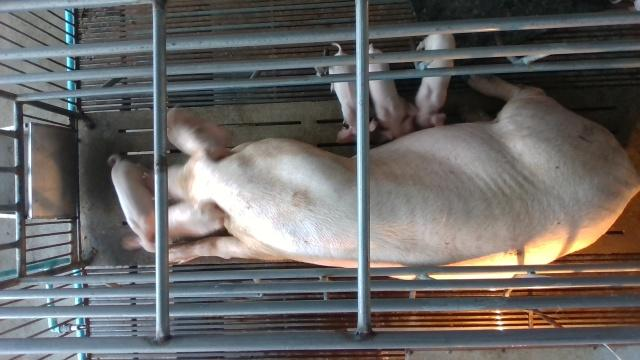piglet: (328, 42, 377, 143), (108, 153, 155, 254), (369, 42, 415, 143), (407, 32, 447, 127)
sow-sit: (167, 72, 640, 280)
